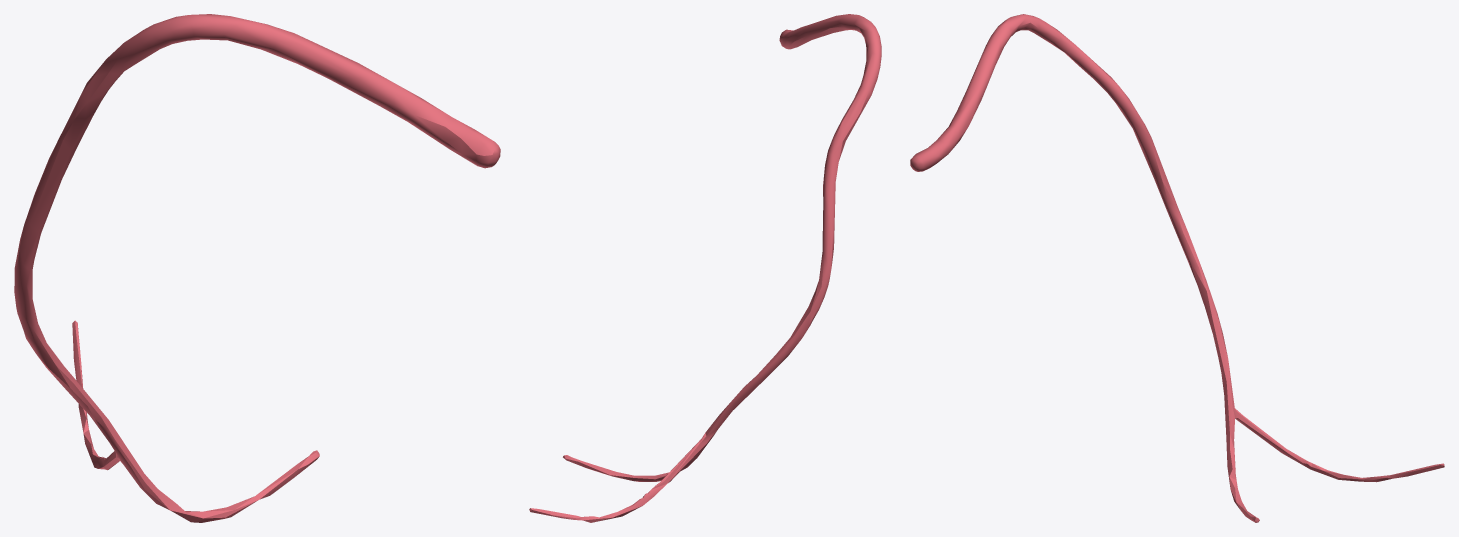
The model's file is fma50467_fj1693.glb.
3 renders of one model, left to right at view 1: azimuth 30°, elevation 25°; view 2: azimuth 150°, elevation 25°; view 3: azimuth 270°, elevation 25°, orthographic. The views are drawn at different scales.
Parts seen in each view (by area): view 1: FMA50467_FJ1693; view 2: FMA50467_FJ1693; view 3: FMA50467_FJ1693.
Boxes of the visible parts, x1,y1,x2,y2 form: FMA50467_FJ1693: (14,14,500,522); FMA50467_FJ1693: (529,14,881,522); FMA50467_FJ1693: (910,14,1444,522).
Size of the model in its own units: 0.0261 by 0.0456 by 0.0518.
